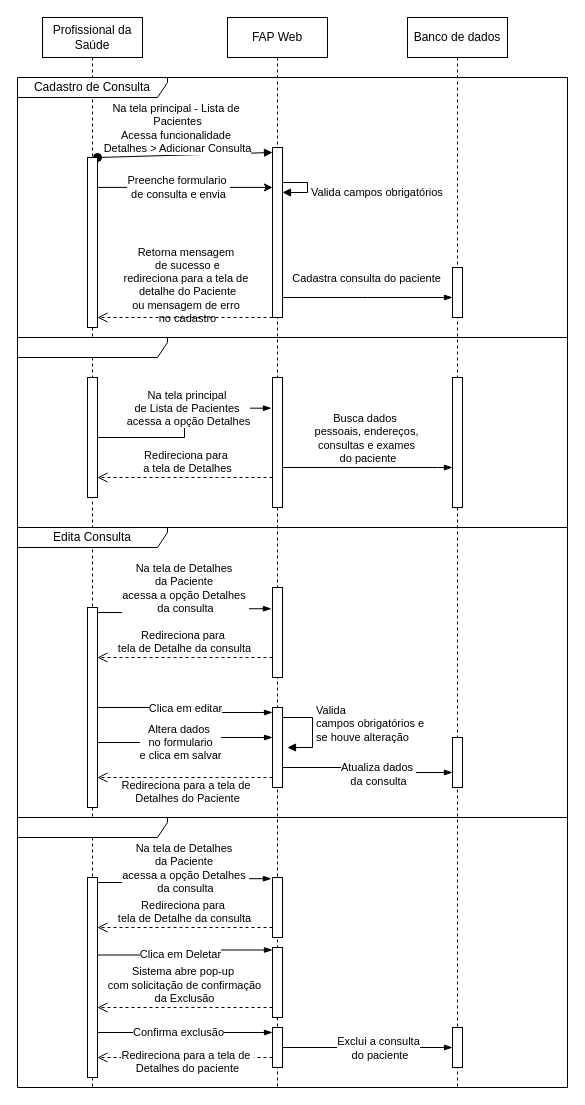
This 585x1105 diagram has some shape labels left out. Here are the shapes that lost their labels. From the top down, the box of each, then its label:
(16, 336, 568, 528): Busca Consulta
(16, 816, 568, 1088): Exclui Consulta
